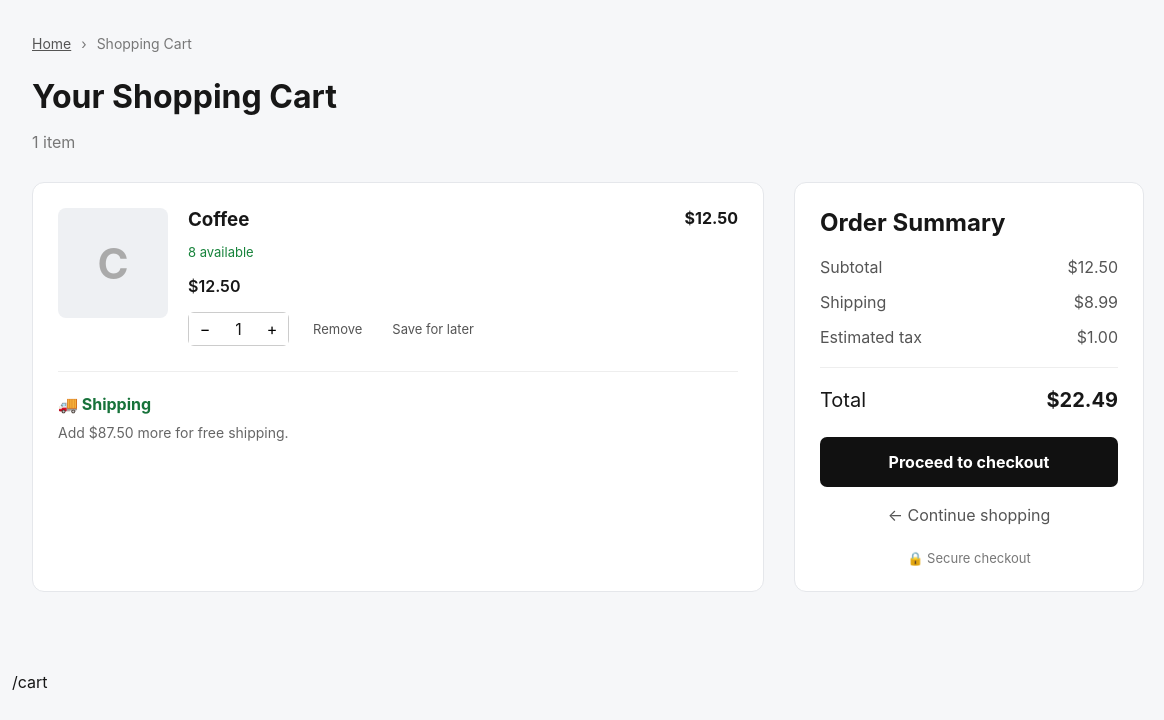
Scenario: Cart › increments an item quantity and displays the updated cart
This screenshot has width=1164, height=720.
What coordinates should you click on to do the following:
click the button "+"
I would click on:
 (272, 329)
Its box is [256,313,288,345].
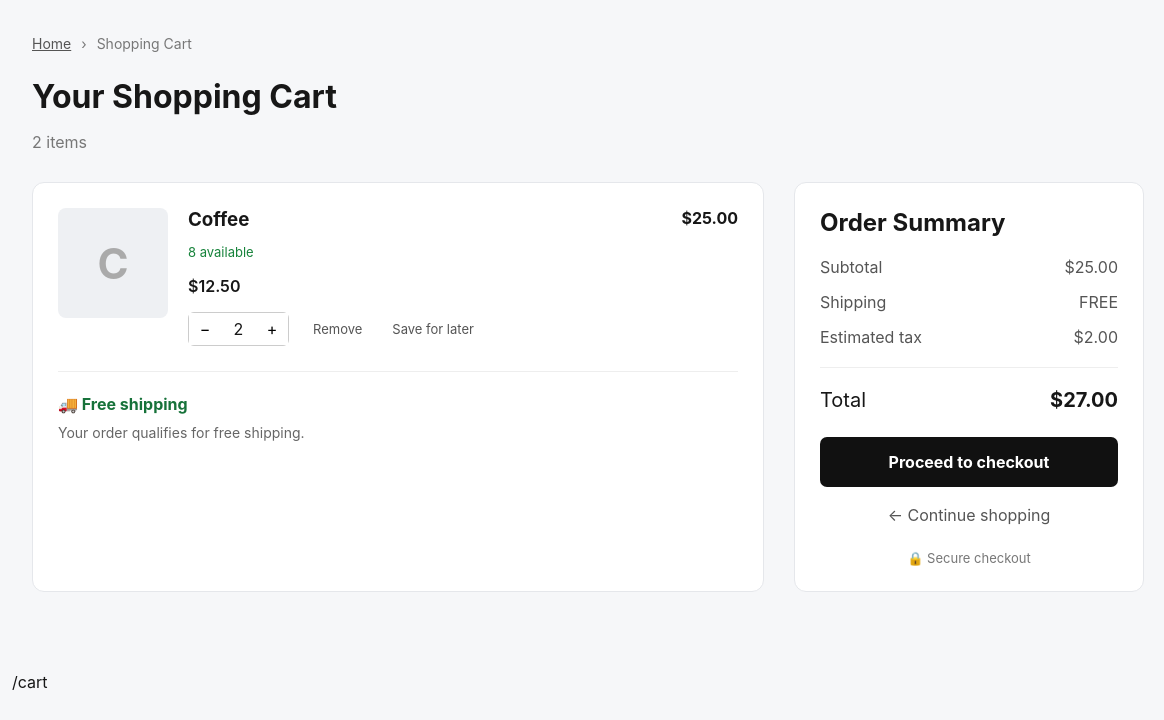
Expected: the text "2 items" is shown, [32,132,87,152]
Expected: the text "Your order qualifies for free shipping." is shown, [58,424,305,441]
